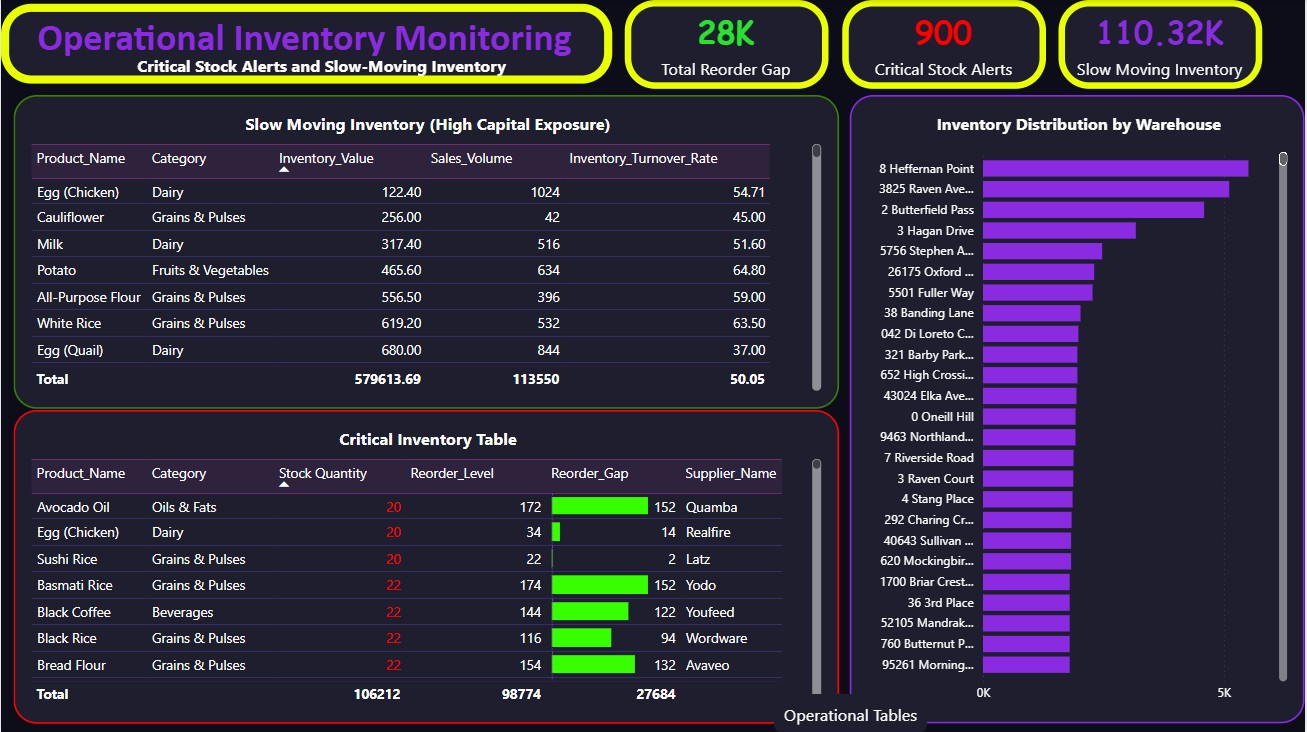

What the dashboard file says about the page in this screenshot:
{"tool":"powerbi","page":{"name":"Operational Tables","canvas":[1280,720],"ordinal":1},"visuals":[{"type":"tableEx","title":"Slow Moving Inventory (High Capital Exposure)","fields":{"Values":["inventory_management inventory_dashboard_view.Product_Name","inventory_management inventory_dashboard_view.Category","Sum(inventory_management inventory_dashboard_view.Inventory_Value)","Sum(inventory_management inventory_dashboard_view.Sales_Volume)","Avg(inventory_management inventory_dashboard_view.Inventory_Turnover_Rate)"]},"box":[12.5,93,810.6,308],"z":0},{"type":"tableEx","title":"Critical Inventory Table","fields":{"Values":["inventory_management inventory_dashboard_view.Product_Name","inventory_management inventory_dashboard_view.Category","inventory_management inventory_dashboard_view.Total Stock Quantity","Sum(inventory_management inventory_dashboard_view.Reorder_Level)","Sum(inventory_management inventory_dashboard_view.Reorder_Gap)","inventory_management inventory_dashboard_view.Supplier_Name"]},"box":[12.5,402.5,810.6,308.1],"z":1000},{"type":"shape","box":[0,3.3,599.9,78.6],"z":2000},{"type":"textbox","box":[36.1,13.9,546.9,61.1],"z":3000},{"type":"barChart","title":"Inventory Distribution by Warehouse","fields":{"Category":["inventory_management inventory_dashboard_view.Warehouse_Location"],"Y":["Sum(inventory_management inventory_dashboard_view.Inventory_Value)"]},"box":[833.1,93.3,446.6,617.2],"z":4000},{"type":"actionButton","title":"o","box":[757.9,681.5,151.3,38.9],"z":5000},{"type":"textbox","box":[46.6,52.8,536.2,22.1],"z":6000},{"type":"card","fields":{"Values":["inventory_management inventory_dashboard_view.Critical Stock Alerts"]},"box":[825.5,0,200,87.4],"z":7000},{"type":"card","fields":{"Values":["inventory_management inventory_dashboard_view.Total Reorder Gap"]},"box":[612.7,0,200,87.4],"z":8000},{"type":"card","fields":{"Values":["inventory_management inventory_dashboard_view.Slow Moving Inventory Value"]},"box":[1038.2,0,200,87.4],"z":9000}]}

Visuals, with their boxes in screenshot pixels (x1, y1, x2, y2), scaled from the page's 1280x720 canvas onto the 1307x732 screenshot:
"Slow Moving Inventory (High Capital Exposure)" tableEx: bbox(13, 95, 840, 408)
"Critical Inventory Table" tableEx: bbox(13, 409, 840, 722)
shape: bbox(0, 3, 613, 83)
textbox: bbox(37, 14, 595, 76)
"Inventory Distribution by Warehouse" barChart: bbox(851, 95, 1306, 722)
"o" actionButton: bbox(774, 693, 928, 731)
textbox: bbox(48, 54, 595, 76)
card - inventory_management inventory_dashboard_view.Critical Stock Alerts: bbox(843, 0, 1047, 89)
card - inventory_management inventory_dashboard_view.Total Reorder Gap: bbox(626, 0, 830, 89)
card - inventory_management inventory_dashboard_view.Slow Moving Inventory Value: bbox(1060, 0, 1264, 89)
